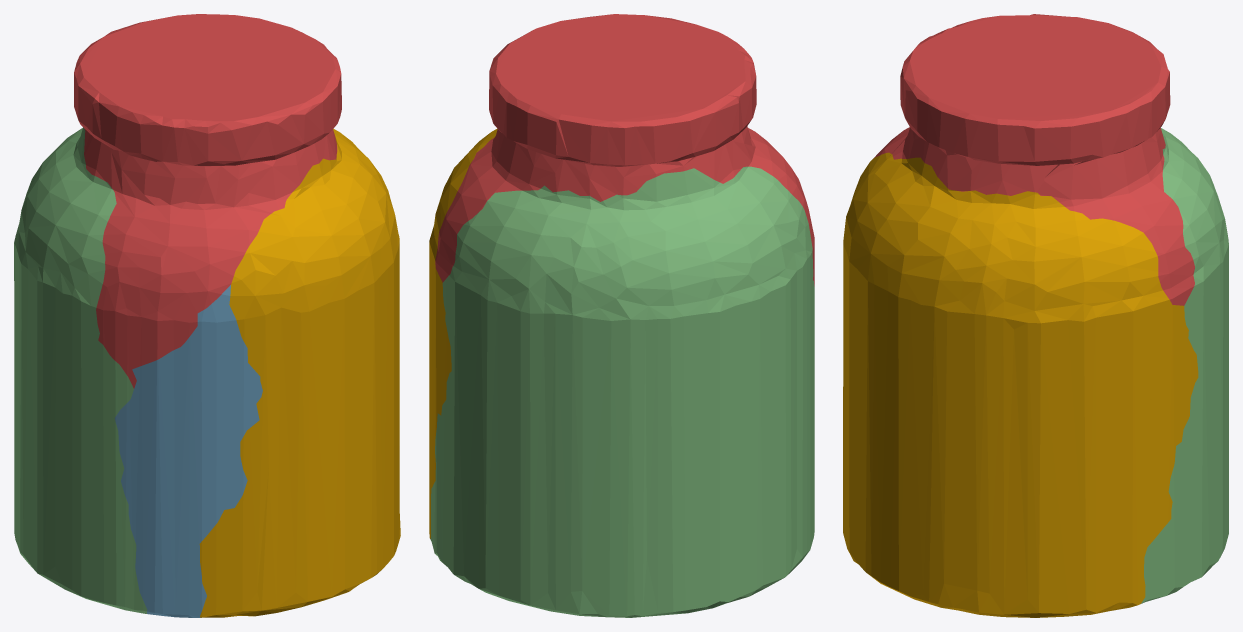
File: mode_3_4pcs.glb
3 views of the same model, side by side, from view 1: azimuth 30°, elevation 25°; view 2: azimuth 150°, elevation 25°; view 3: azimuth 270°, elevation 25° (orthographic).
Parts seen in each view (by area): view 1: piece_0.obj, piece_1.obj, piece_3.obj, piece_2.obj; view 2: piece_3.obj, piece_1.obj, piece_0.obj; view 3: piece_0.obj, piece_1.obj, piece_3.obj.
Part boxes in pixels (box(x1,y1,x2,y2)): piece_0.obj: box(199, 129, 400, 617); piece_1.obj: box(74, 14, 341, 388); piece_3.obj: box(14, 127, 147, 613); piece_2.obj: box(114, 285, 262, 617); piece_3.obj: box(430, 166, 814, 617); piece_1.obj: box(435, 14, 814, 286); piece_0.obj: box(429, 128, 497, 538); piece_0.obj: box(843, 152, 1198, 617); piece_1.obj: box(873, 14, 1194, 305); piece_3.obj: box(1141, 128, 1228, 603).
Size of the model in its own units: 0.7401 by 1 by 0.74.
